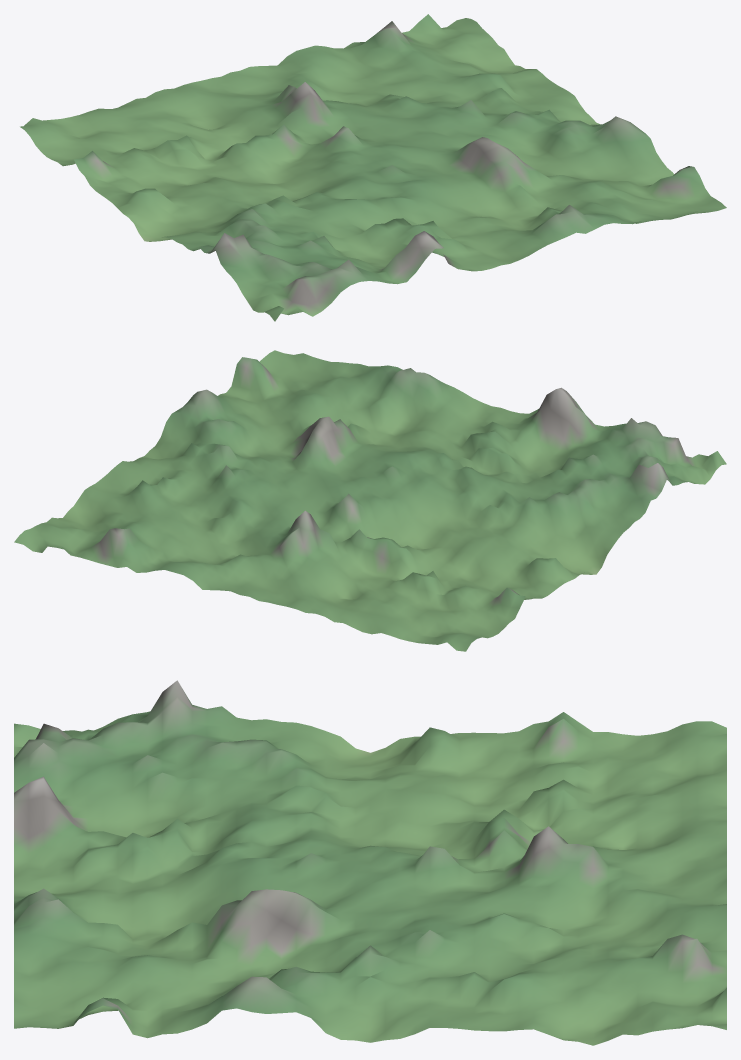
The model's file is gen_terrain_small.glb.
3 views of the same model, one above another, from view 1: azimuth 30°, elevation 25°; view 2: azimuth 150°, elevation 25°; view 3: azimuth 270°, elevation 25° (orthographic). The views are drawn at different scales.
Visible parts, largest first — view 1: gen_terrain_small; view 2: gen_terrain_small; view 3: gen_terrain_small.
Boxes of the visible parts, bbox=[...] form: gen_terrain_small: bbox=[20, 14, 726, 321]; gen_terrain_small: bbox=[14, 350, 726, 651]; gen_terrain_small: bbox=[14, 680, 726, 1045].
Bounding box in the file's own units: 32 × 3.98 × 32.
